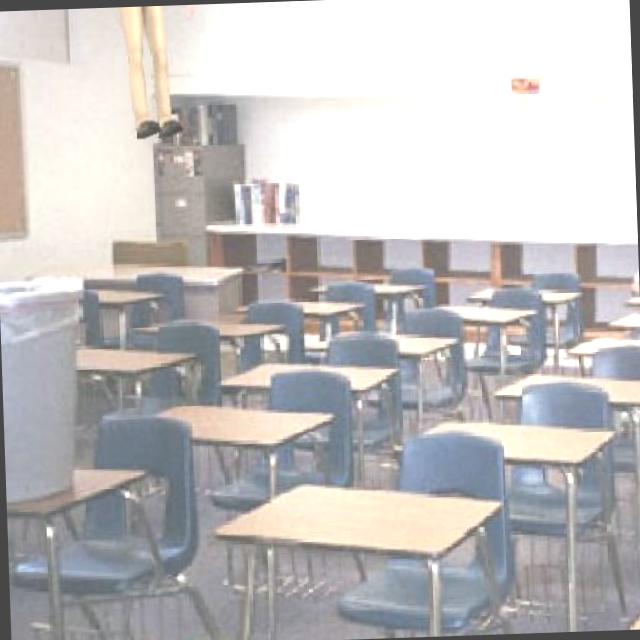Person: (117, 4, 204, 145)
